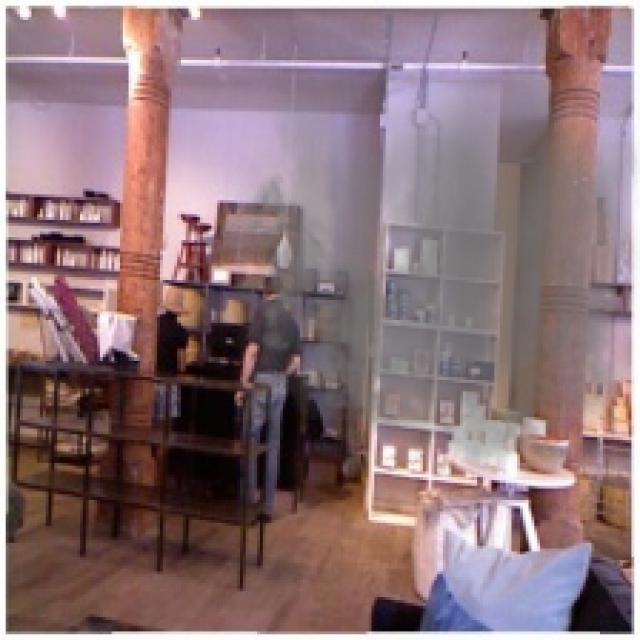Smoke: (234, 80, 637, 492)
